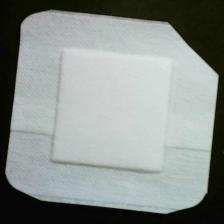Cut: (5, 9, 221, 216)
